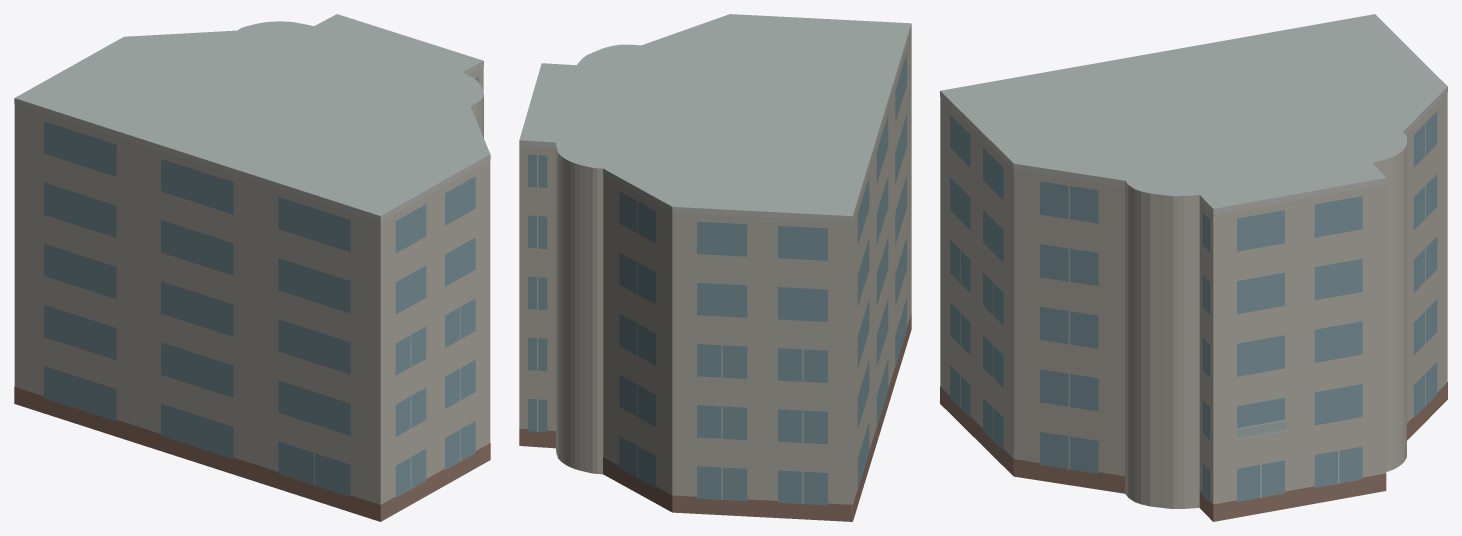
The model's file is survey-upis-32731924.glb.
3 renders of one model, left to right at view 1: azimuth 30°, elevation 25°; view 2: azimuth 150°, elevation 25°; view 3: azimuth 270°, elevation 25°, orthographic. The views are drawn at different scales.
Visible parts, largest first — view 1: survey-upis-32731924.tmp; view 2: survey-upis-32731924.tmp; view 3: survey-upis-32731924.tmp.
Part boxes in pixels (left/top/right/bottom): survey-upis-32731924.tmp: left=14, top=14, right=490, bottom=521; survey-upis-32731924.tmp: left=519, top=14, right=911, bottom=521; survey-upis-32731924.tmp: left=940, top=14, right=1447, bottom=521.
Size of the model in its own units: 16.84 by 12.6 by 18.53.
